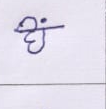anusvara: (41, 18, 47, 23)
